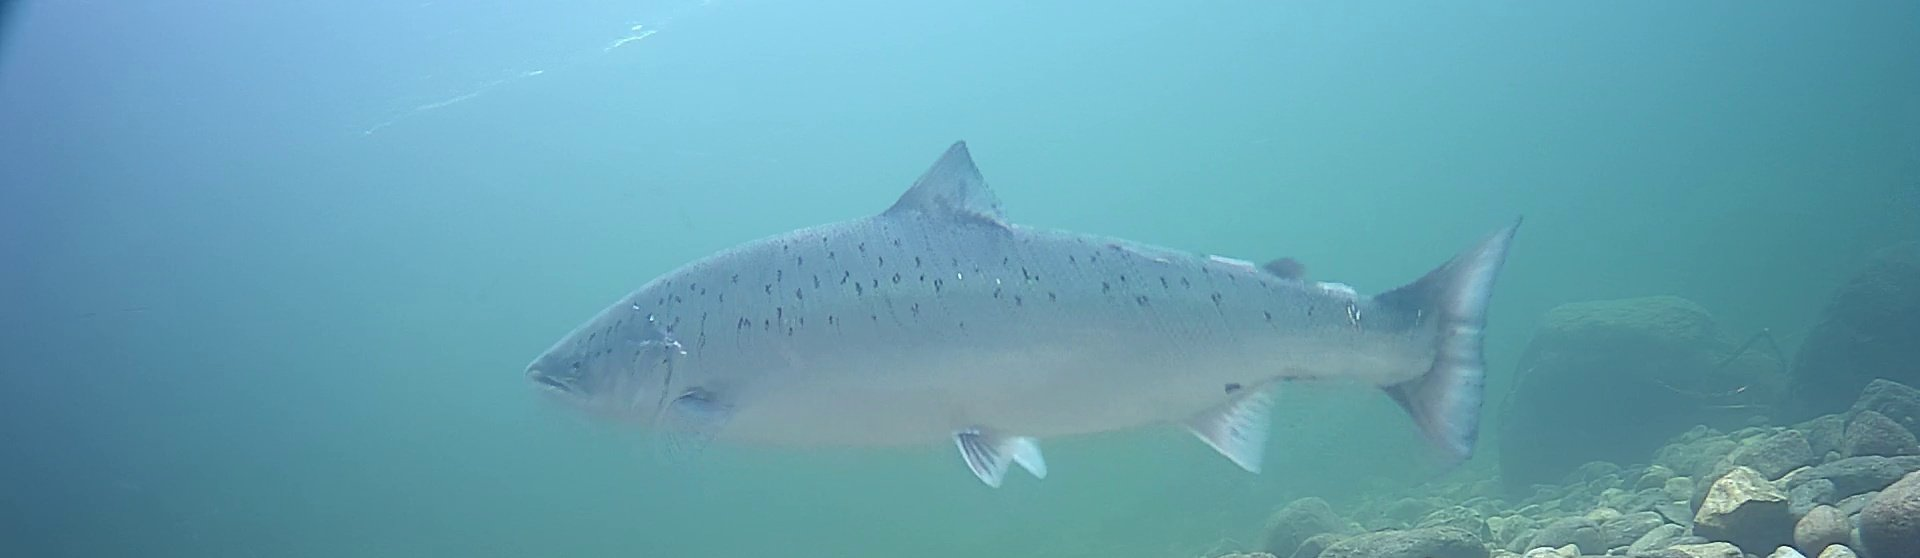salmon: (519, 137, 1527, 488)
